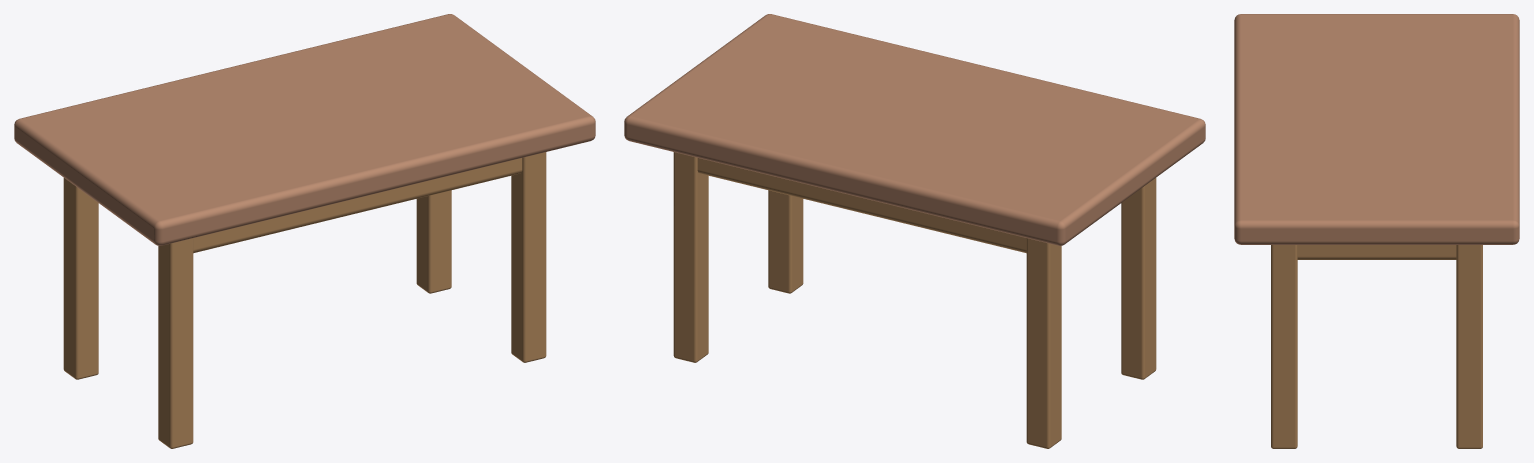
Rendered from table.glb.
3 renders of one model, left to right at view 1: azimuth 30°, elevation 25°; view 2: azimuth 150°, elevation 25°; view 3: azimuth 270°, elevation 25°, orthographic.
Visible parts, largest first — view 1: poc-table-part-13, poc-table-part-16, poc-table-part-18, poc-table-part-15, poc-table-part-14, poc-table-part-17; view 2: poc-table-part-13, poc-table-part-15, poc-table-part-17, poc-table-part-16, poc-table-part-14, poc-table-part-18; view 3: poc-table-part-13, poc-table-part-17, poc-table-part-18, poc-table-part-14.
Boxes of the visible parts, x1,y1,x2,y2 form: poc-table-part-13: [14, 14, 595, 245]; poc-table-part-16: [158, 238, 193, 448]; poc-table-part-18: [511, 152, 546, 362]; poc-table-part-15: [63, 178, 98, 379]; poc-table-part-14: [193, 158, 522, 253]; poc-table-part-17: [416, 190, 451, 293]; poc-table-part-13: [624, 14, 1205, 245]; poc-table-part-15: [1026, 238, 1061, 448]; poc-table-part-17: [673, 152, 708, 362]; poc-table-part-16: [1121, 178, 1156, 379]; poc-table-part-14: [697, 158, 1026, 253]; poc-table-part-18: [768, 190, 803, 293]; poc-table-part-13: [1234, 14, 1519, 244]; poc-table-part-17: [1456, 245, 1482, 448]; poc-table-part-18: [1271, 245, 1297, 448]; poc-table-part-14: [1297, 245, 1456, 259].
Bounding box in the file's own units: 1.4 × 0.75 × 0.8.
